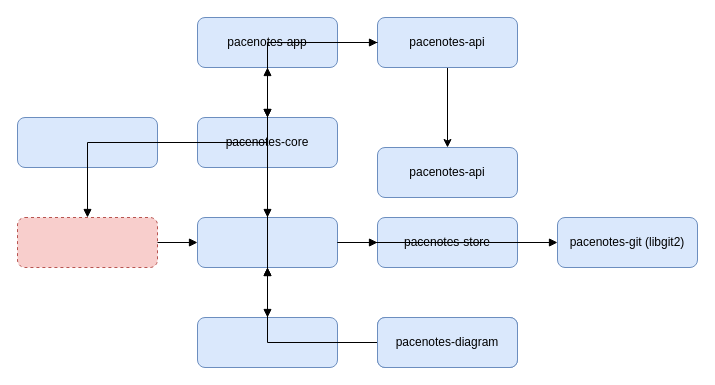
This 715x385 diagram has some shape labels left out. Here are the shapes that lost their labels. From the top down, the box of each, then its label:
(16, 116, 158, 168): pacenotes-cli
(16, 216, 158, 268): pacenotes-parse
(196, 216, 338, 268): pacenotes-index
(196, 316, 338, 368): pacenotes-rules
